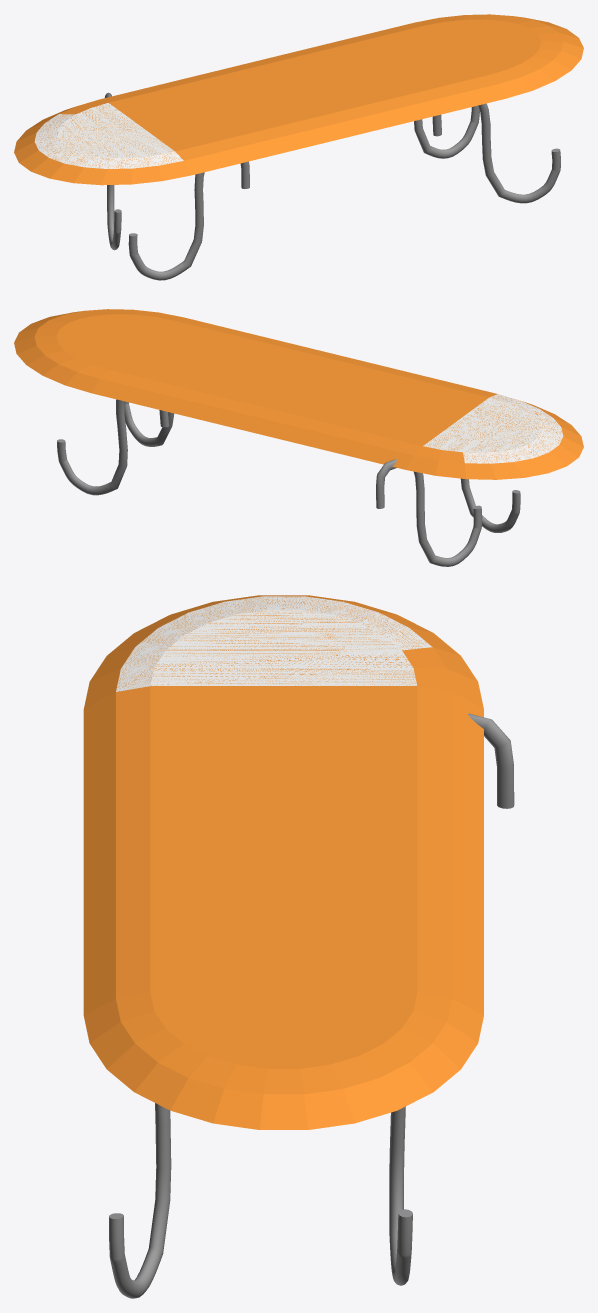
File: tisch.FBX
3 renders of one model, top to bottom at view 1: azimuth 30°, elevation 25°; view 2: azimuth 150°, elevation 25°; view 3: azimuth 270°, elevation 25°, orthographic. The views are drawn at different scales.
Visible parts, largest first — view 1: ID5587, Linie005, Linie003, Linie004, Linie006; view 2: ID5587, Linie006, Linie004, Linie005, Linie003; view 3: ID5587, Linie003, Linie004, Linie006.
Part boxes in pixels (box(x1,y1,x2,y2)): ID5587: box(14, 14, 583, 185); Linie005: box(128, 161, 249, 280); Linie003: box(432, 103, 560, 203); Linie004: box(414, 105, 479, 158); Linie006: box(104, 92, 121, 250); ID5587: box(14, 309, 583, 479); Linie006: box(376, 459, 482, 566); Linie004: box(57, 399, 169, 495); Linie005: box(460, 478, 520, 532); Linie003: box(124, 401, 174, 446); ID5587: box(83, 595, 483, 1129); Linie003: box(109, 1103, 171, 1298); Linie004: box(389, 1106, 412, 1285); Linie006: box(467, 713, 514, 808).
Bounding box in the file's own units: 1910 × 448 × 650.
